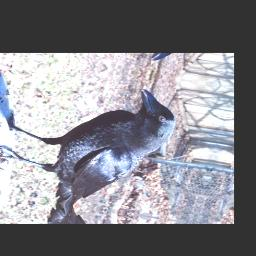Crow: (0, 70, 184, 217)
